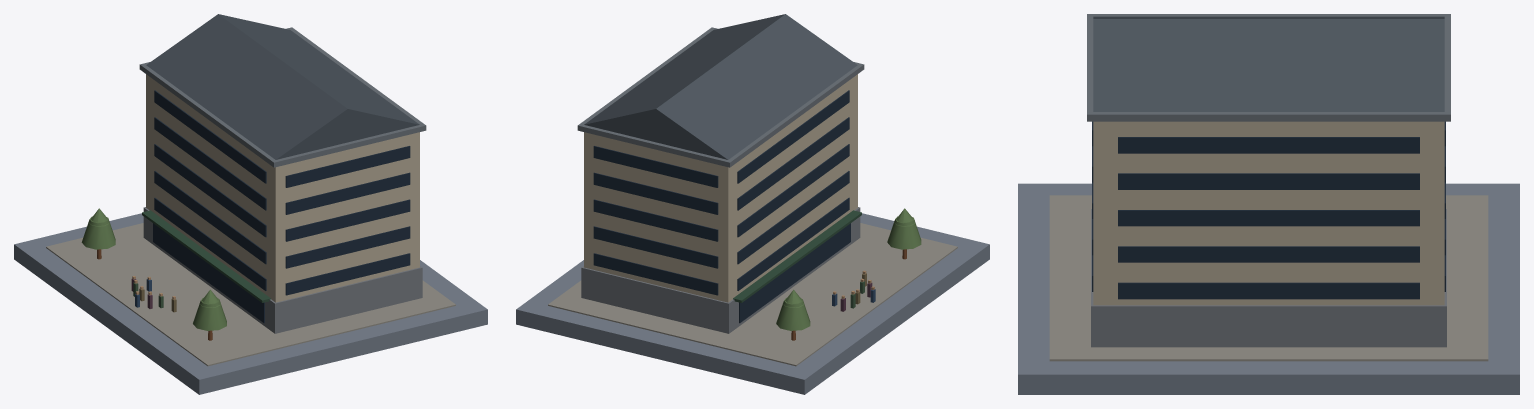
File: generic_building.glb
3 views of the same model, side by side, from view 1: azimuth 30°, elevation 25°; view 2: azimuth 150°, elevation 25°; view 3: azimuth 270°, elevation 25° (orthographic). The views are drawn at different scales.
Parts seen in each view (by area): view 1: generic_building; view 2: generic_building; view 3: generic_building.
Boxes of the visible parts, <box> form: generic_building: <box>14,14,487,394</box>; generic_building: <box>516,14,989,394</box>; generic_building: <box>1018,14,1519,394</box>.
Bounding box in the file's own units: 36 × 26.55 × 40.
